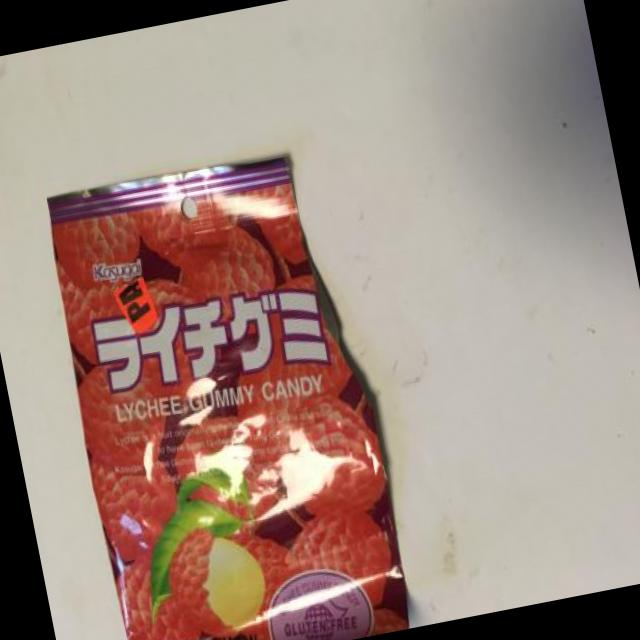Trash: (36, 141, 416, 640)
